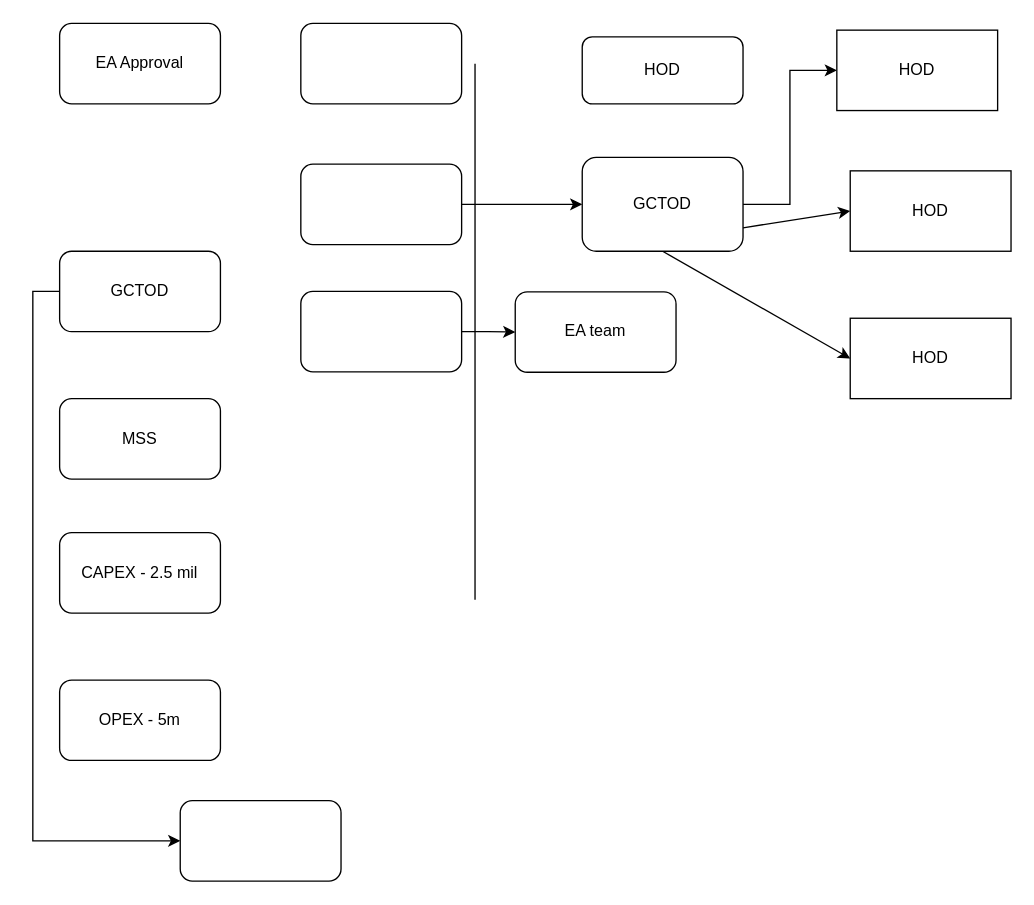
This 1034x905 diagram has some shape labels left out. The shapes that lost their labels are listed below. From the top down, each one's centre as x and y in pixels, then its label:
At point (380, 63): "EASF".
At point (380, 204): "EAC".
At point (380, 331): "EASY".
At point (260, 840): "500K budget can approved".
